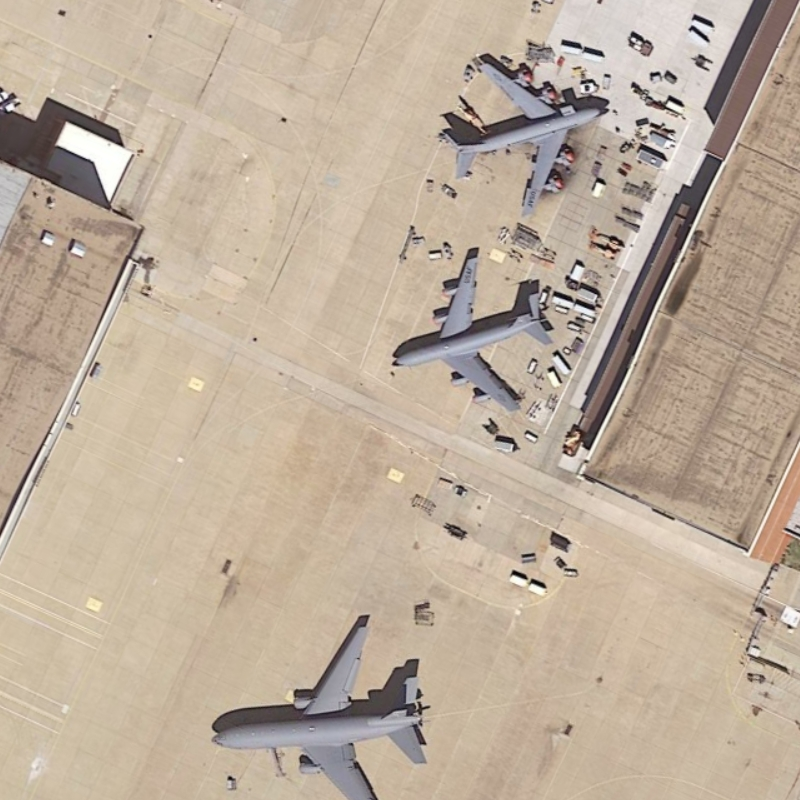A14: (383, 239, 569, 417), (448, 46, 612, 218)
A18: (204, 608, 441, 800)
